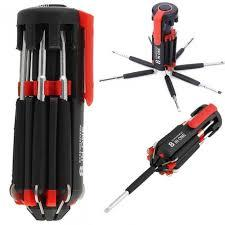screwdriver: (103, 164, 155, 213), (172, 72, 222, 94), (111, 48, 154, 66), (98, 68, 156, 81), (163, 72, 181, 112), (173, 59, 224, 70), (174, 37, 194, 57)
